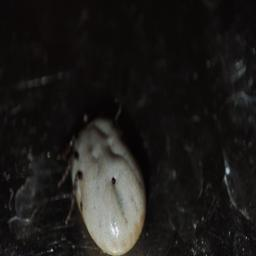Rhipicephalus sanguineus: (46, 109, 155, 256)
